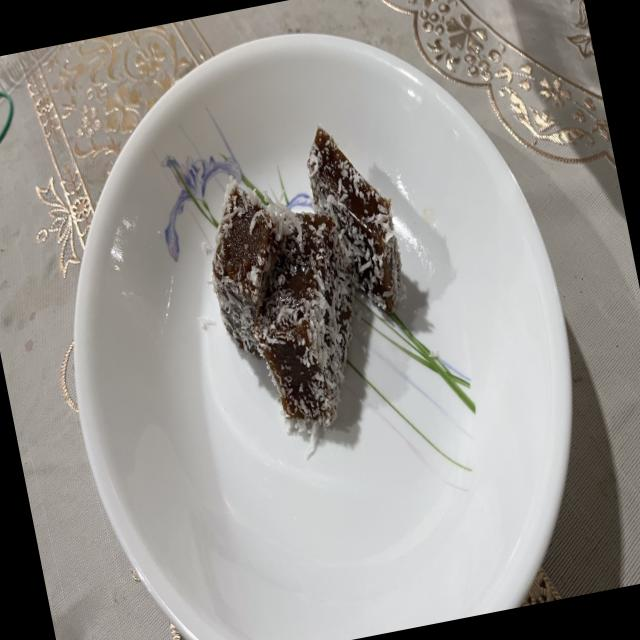kaswi: (253, 209, 358, 426), (308, 127, 401, 313), (213, 180, 279, 353)
